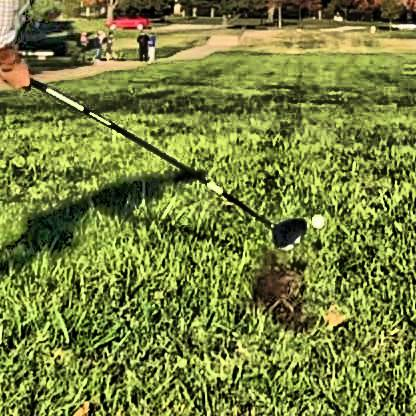golfball: (306, 210, 321, 225)
